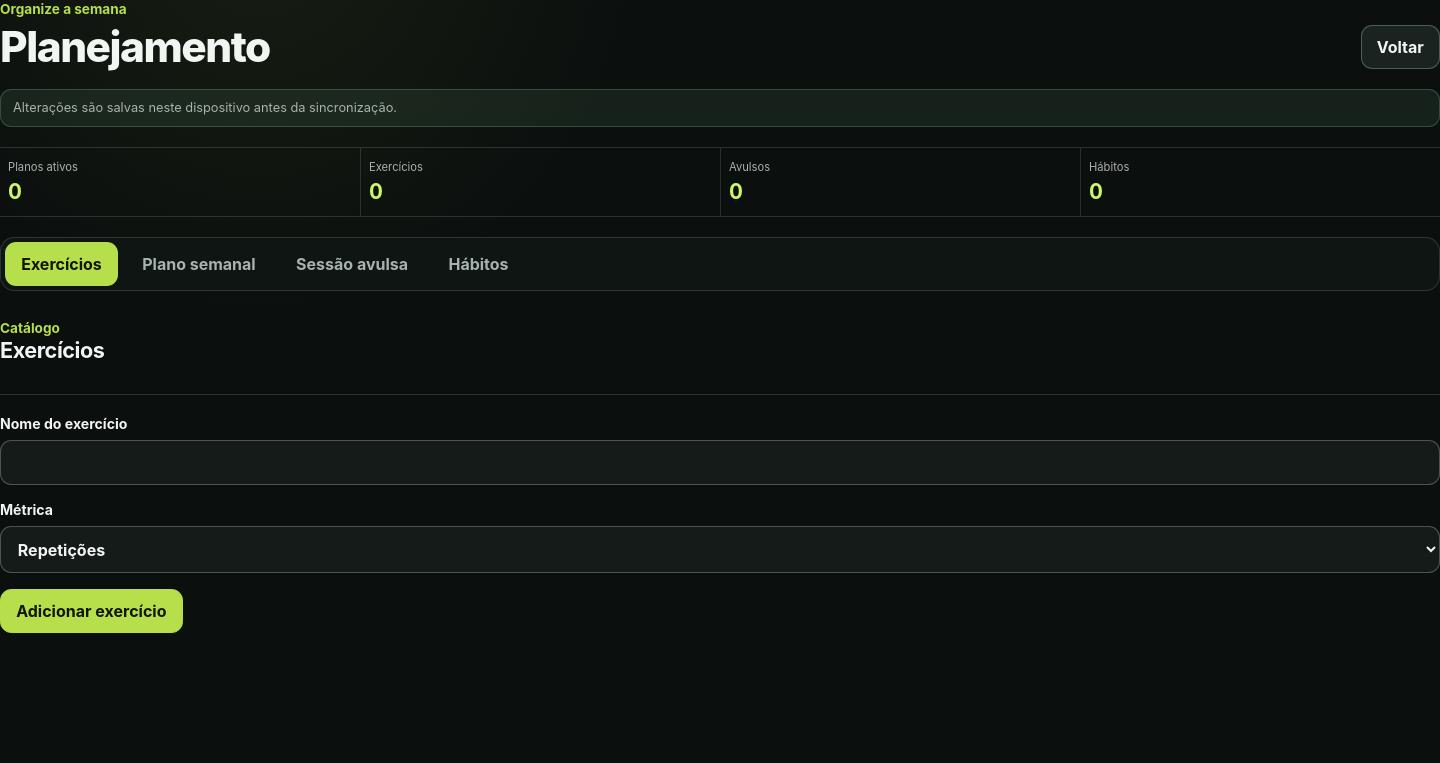
Test: mobile-first planning › shows one planning decision area at a time
This screenshot has width=1440, height=763.
Check: the element "Exercícios" is shown, box top-left (0, 311), bottom-right (1439, 633)
Check: the field labelled "Nome do plano" is not shown
Click the button "Plano semanal".
click(199, 264)  # box top-left (126, 242), bottom-right (272, 286)
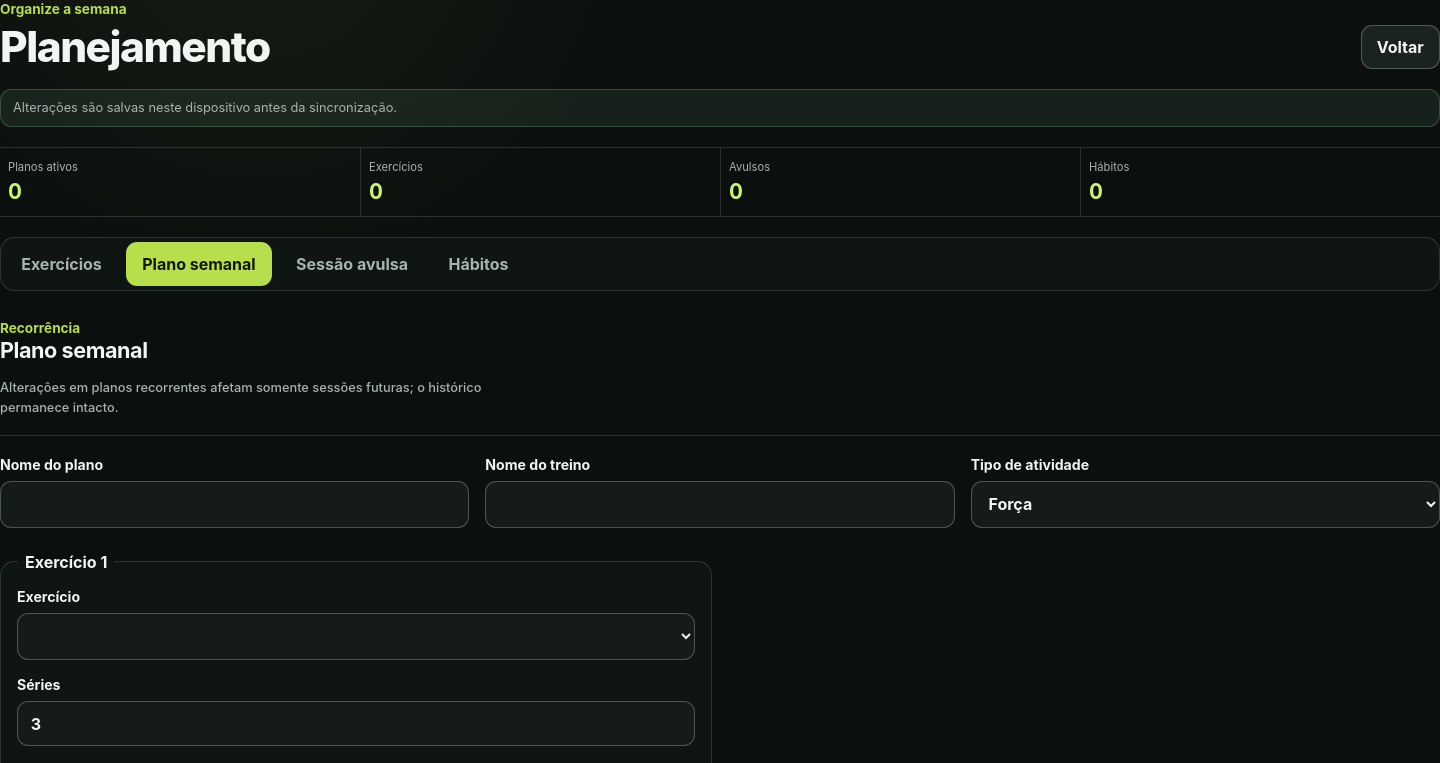
Check: the field labelled "Nome do plano" is shown, box top-left (0, 481), bottom-right (469, 528)
Check: the element with class "weekly-plan-basics" is shown, box top-left (0, 456), bottom-right (1439, 528)
Check: the label labelled "Nome do exercício" is gone
Click the button "Sessão avulsa".
click(352, 264)  # box top-left (280, 242), bottom-right (424, 286)
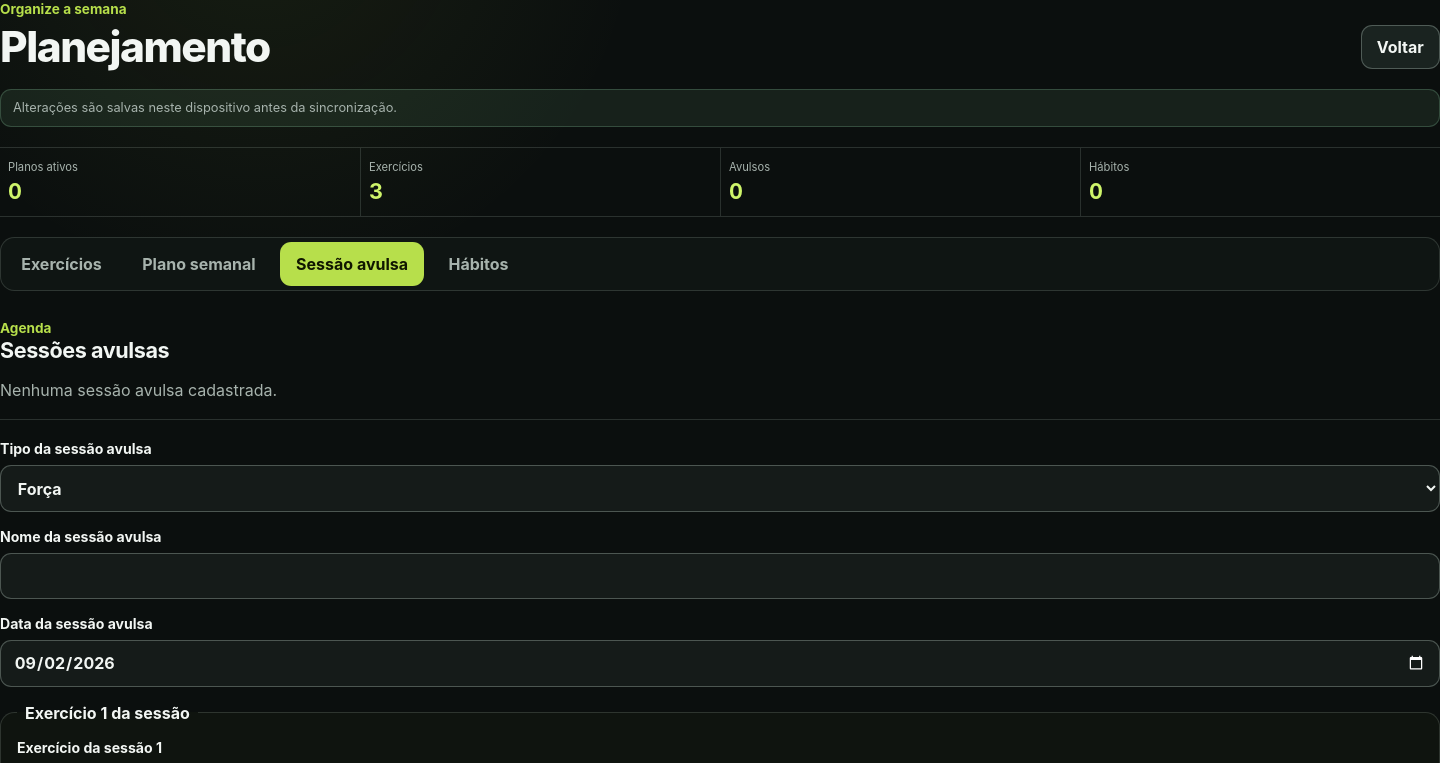
Check: the field labelled "Nome da sessão avulsa" is shown, box top-left (0, 553), bottom-right (1439, 599)
Check: the label labelled "Nome do plano" is gone
